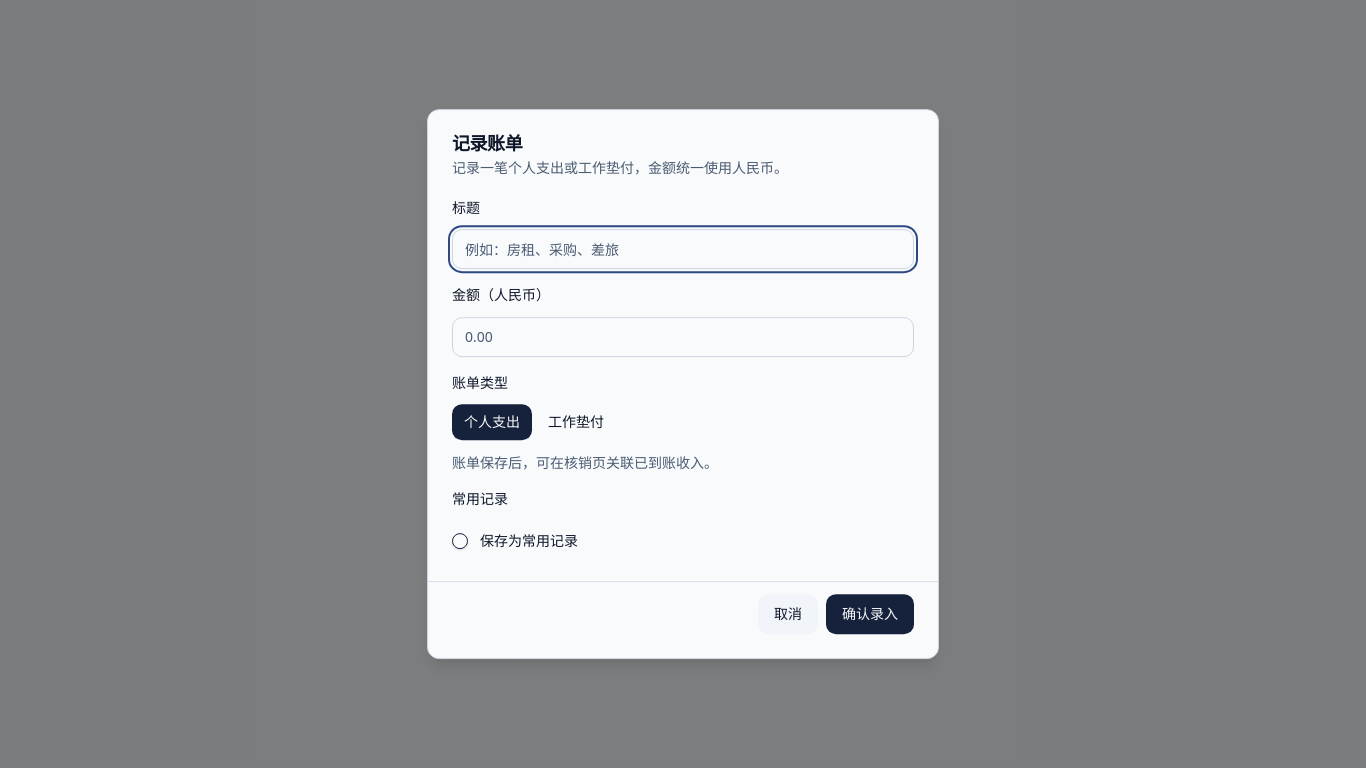
quick entry › does not submit an invalid bill amount
This screenshot has width=1366, height=768.
Type "房租" into the field labelled "标题".
click(683, 249); type("房租")  # box [452,229,914,269]
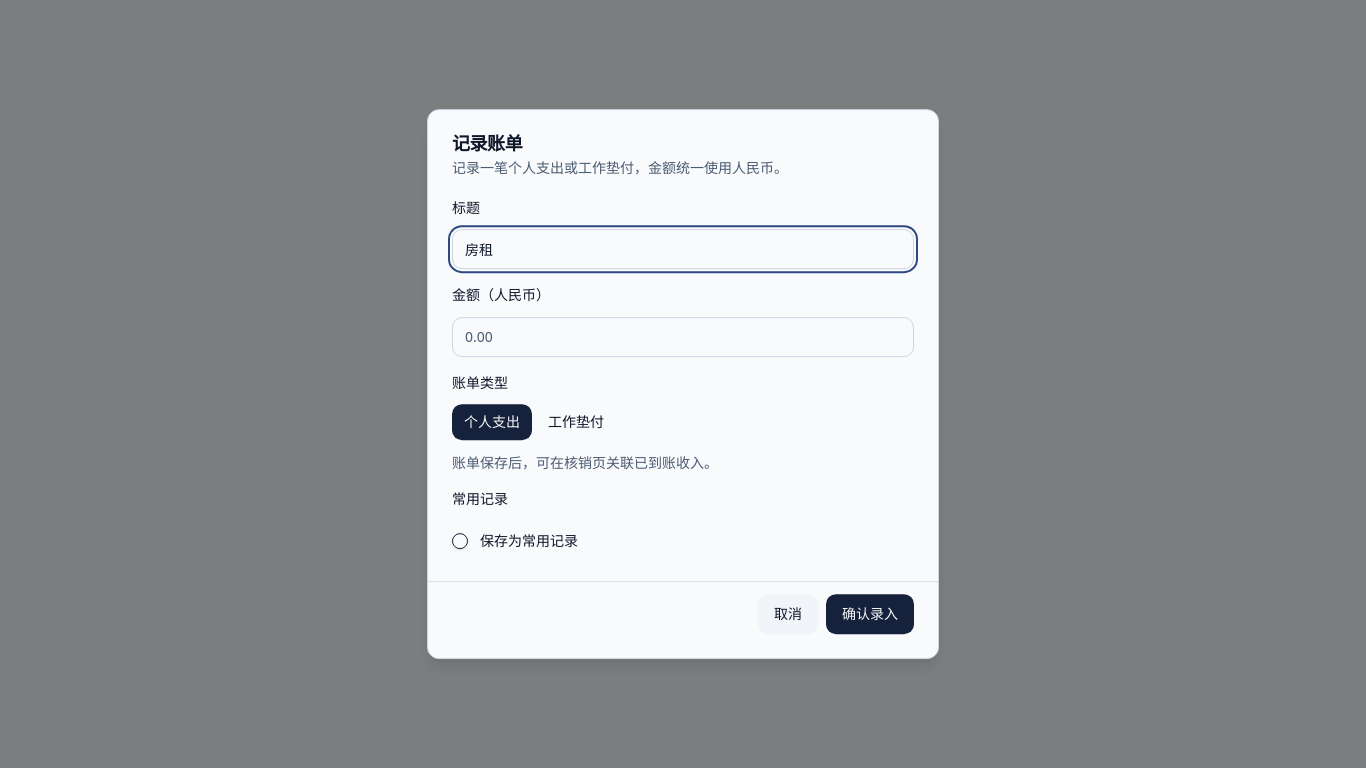
Type "1.001" into the number field labelled "金额（人民币）".
click(683, 337); type("1.001")  # box [452,317,914,357]
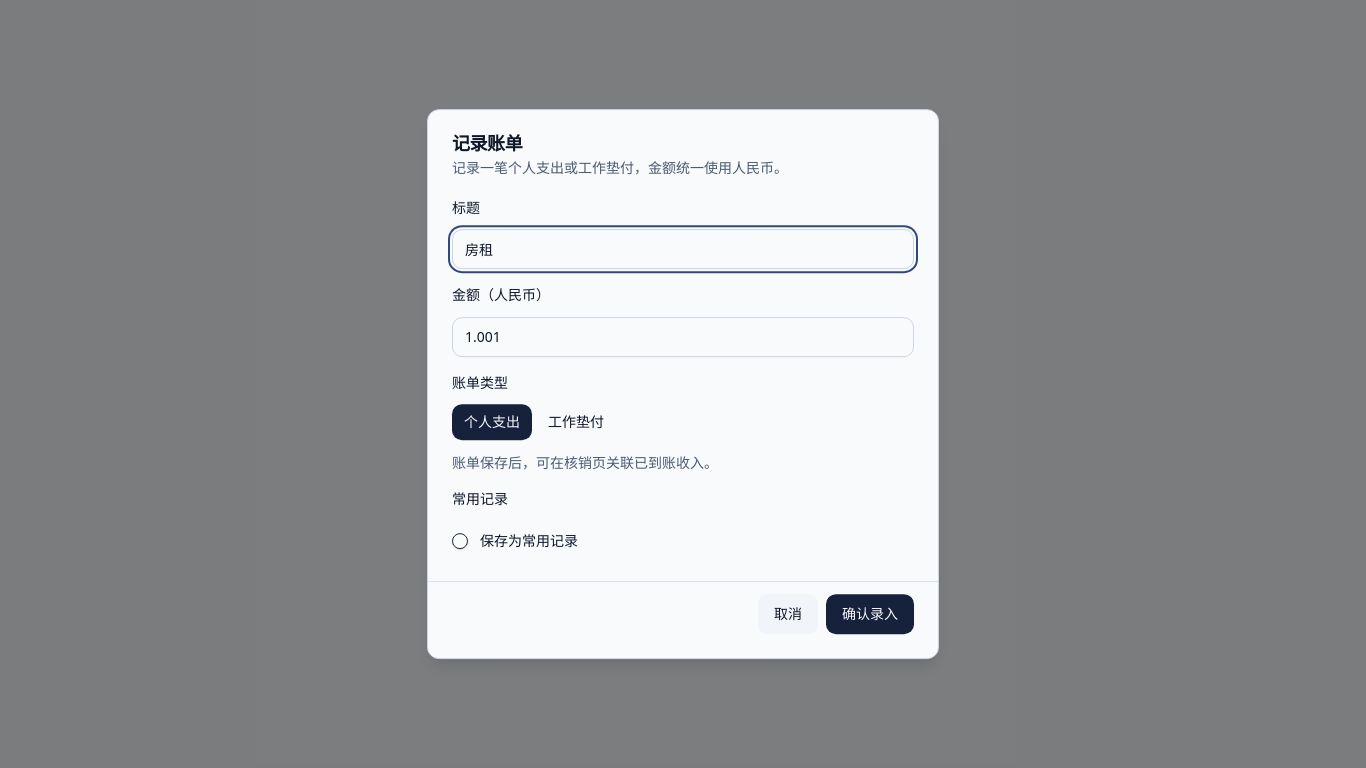
Submit the form, box [428,110,938,658]
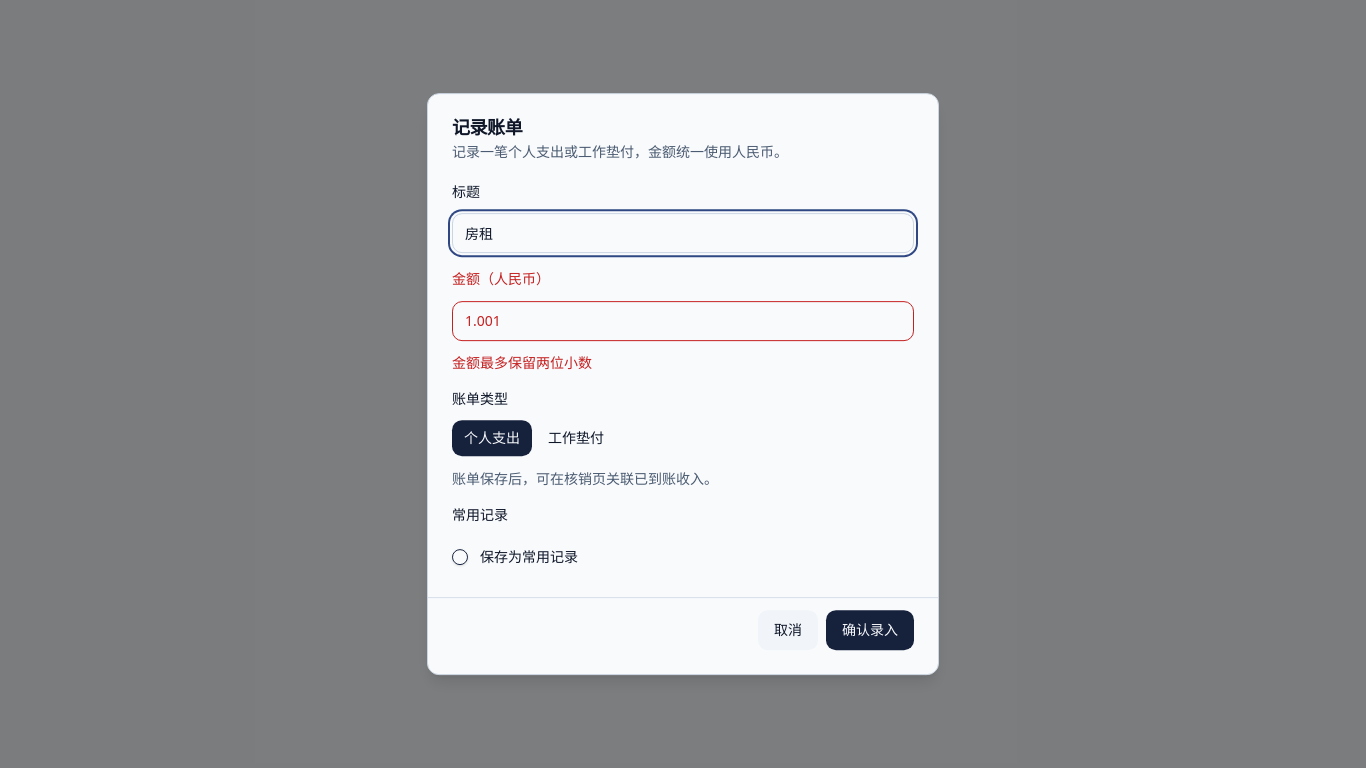
Expected: the message reads "金额最多保留两位小数", [452,353,592,372]
